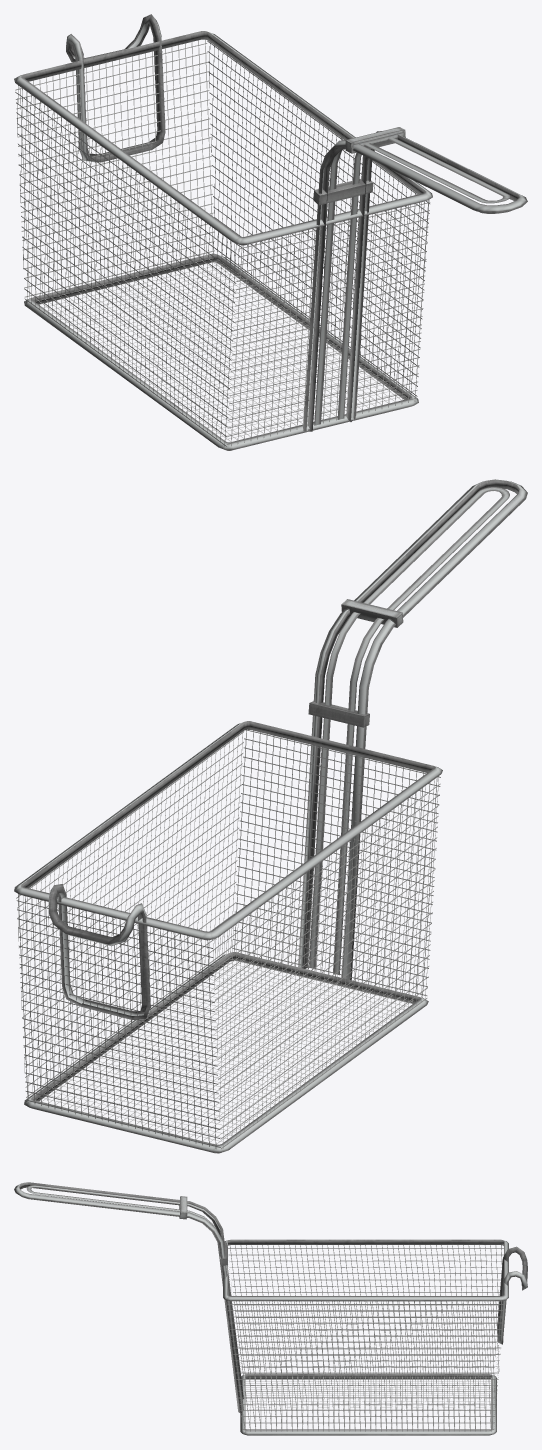
Rendered from SM_Deep_Fryer_Basket_01.glb.
The picture shows the model from 3 angles, top to bottom: view 1: azimuth 30°, elevation 25°; view 2: azimuth 150°, elevation 25°; view 3: azimuth 270°, elevation 25°; orthographic projection. The views are drawn at different scales.
Visible parts, largest first — view 1: SM_Deep_Fryer_Basket_01; view 2: SM_Deep_Fryer_Basket_01; view 3: SM_Deep_Fryer_Basket_01.
Boxes of the visible parts, left/top/right/bottom form: SM_Deep_Fryer_Basket_01: left=14, top=14, right=527, bottom=450; SM_Deep_Fryer_Basket_01: left=14, top=479, right=527, bottom=1153; SM_Deep_Fryer_Basket_01: left=14, top=1182, right=527, bottom=1435.
Size of the model in its own units: 0.2074 by 0.3541 by 0.7429.
Materials: 2 (2 with a texture image).
